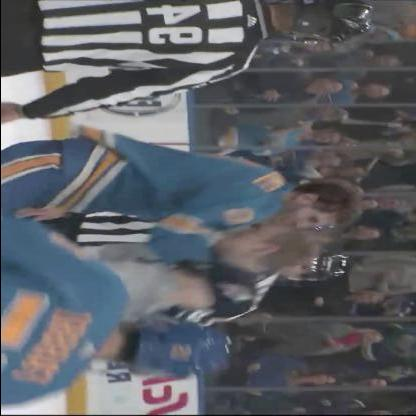voilence: (57, 133, 363, 326)
